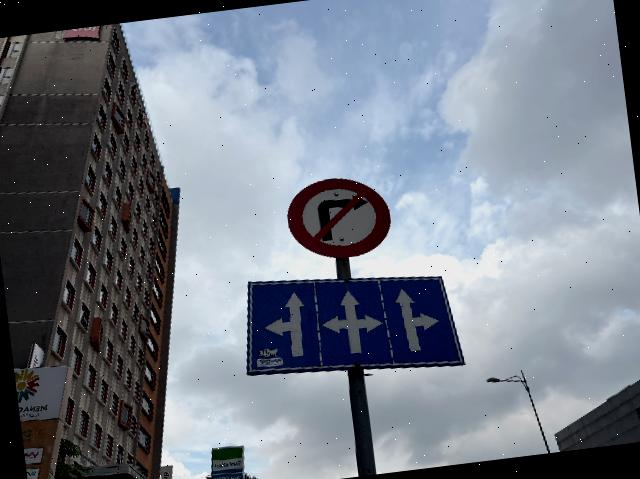cam-re-trai: (283, 171, 397, 266)
